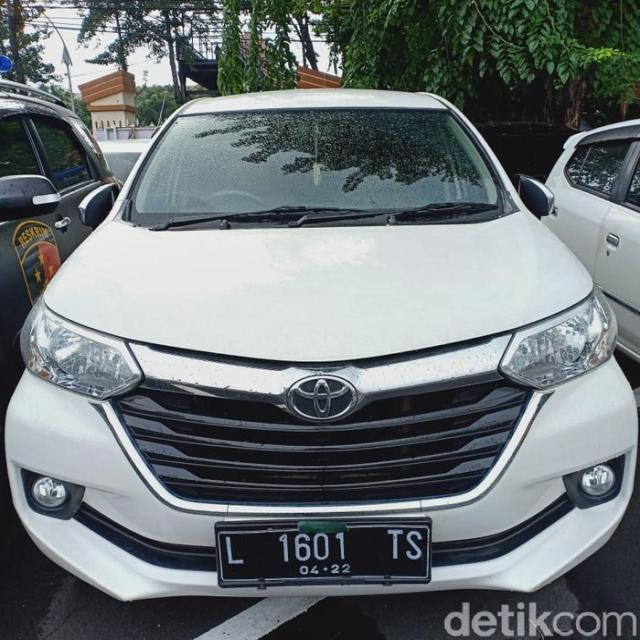license-plat: (205, 516, 445, 596)
